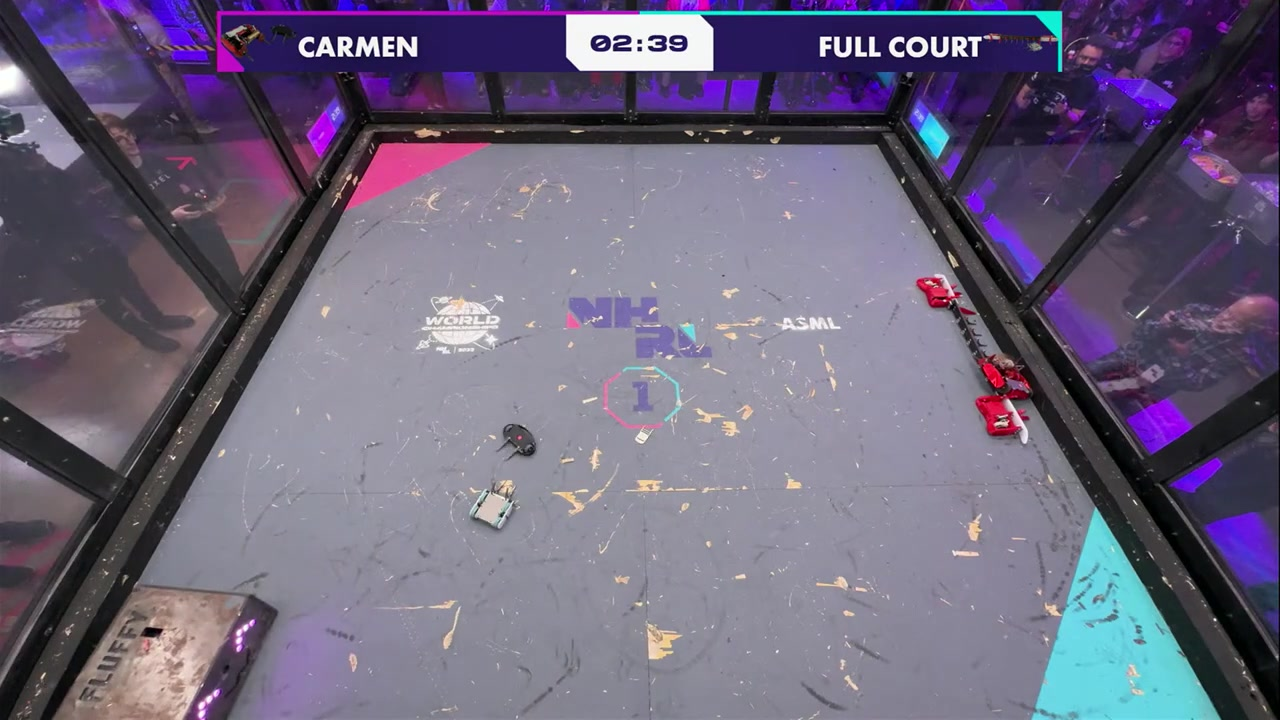combatbot: (994, 356, 1032, 399), (979, 396, 1022, 431), (916, 277, 956, 309)
housebot: (57, 587, 277, 717)
minibot: (471, 490, 515, 529), (504, 423, 536, 455)
